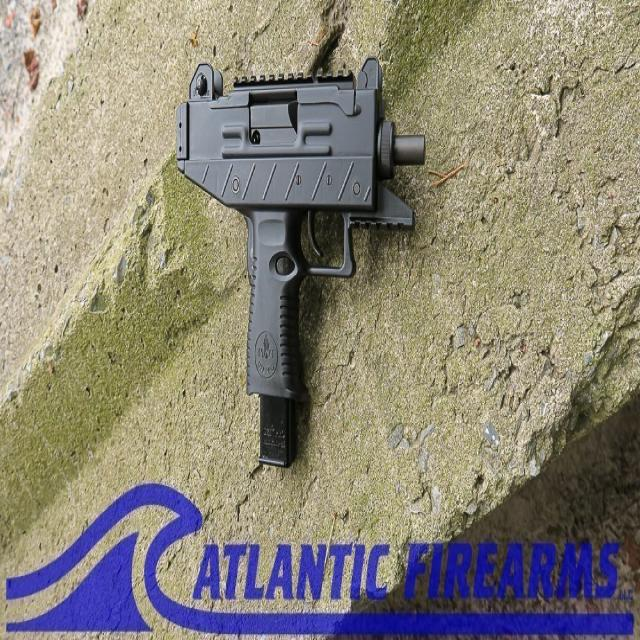SMG: (175, 59, 424, 471)
